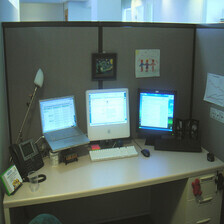laptop: (29, 93, 95, 156)
